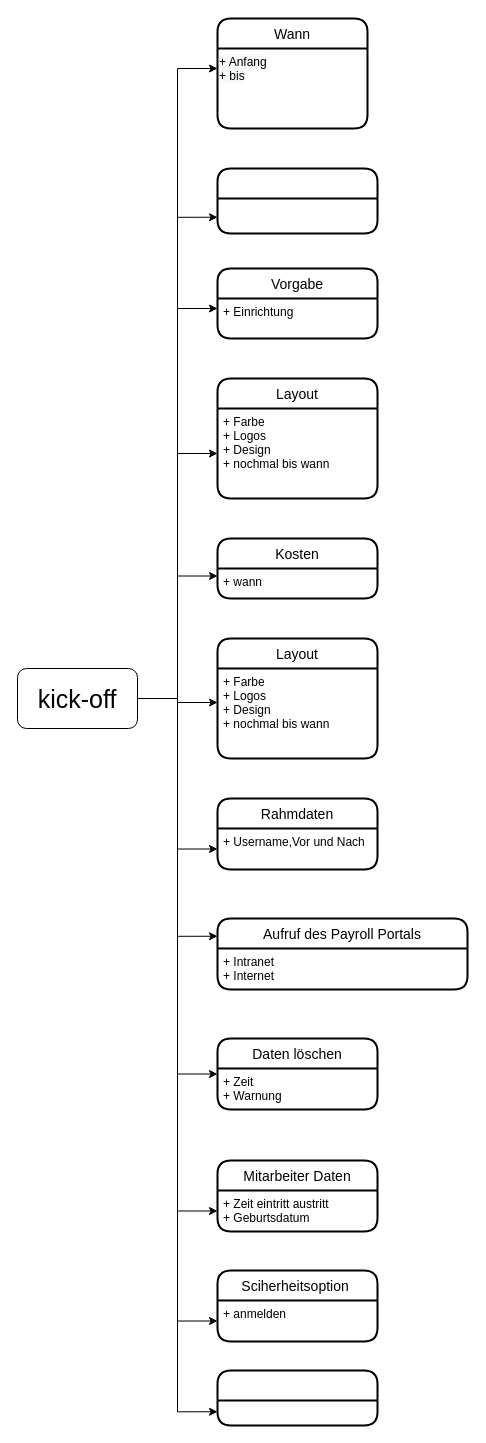
Image size: 486x1443. Some labels were removed from this diagram. The centre of each missing label's shape, as x and y in pixels:
"offene Fragen" goes at (x=297, y=1397).
"Wer" goes at (x=297, y=200).
